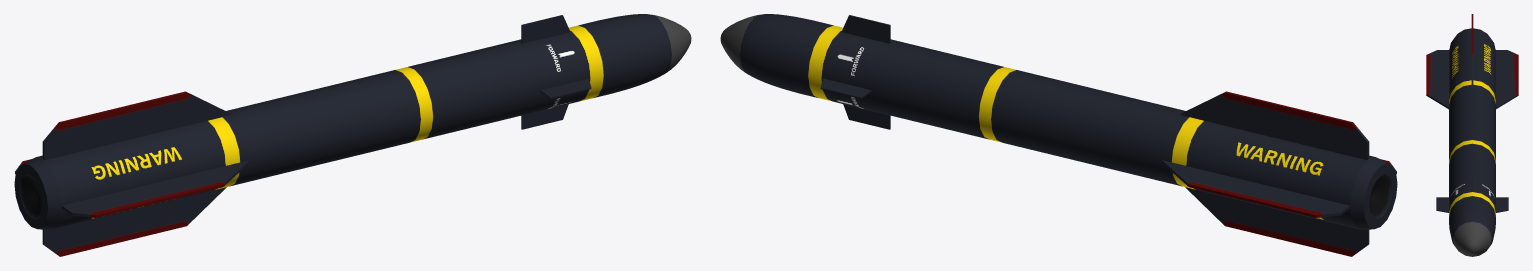
File: missile.glb
The picture shows the model from 3 angles, left to right: view 1: azimuth 30°, elevation 25°; view 2: azimuth 150°, elevation 25°; view 3: azimuth 270°, elevation 25°; orthographic projection. The views are drawn at different scales.
Visible parts, largest first — view 1: Hellfire; view 2: Hellfire; view 3: Hellfire.
Boxes of the visible parts, <box> form: Hellfire: <box>14,14,691,256</box>; Hellfire: <box>720,14,1397,256</box>; Hellfire: <box>1426,14,1518,256</box>.
Size of the model in its own units: 145 by 28.17 by 28.14.
1 material, 1 textured.
